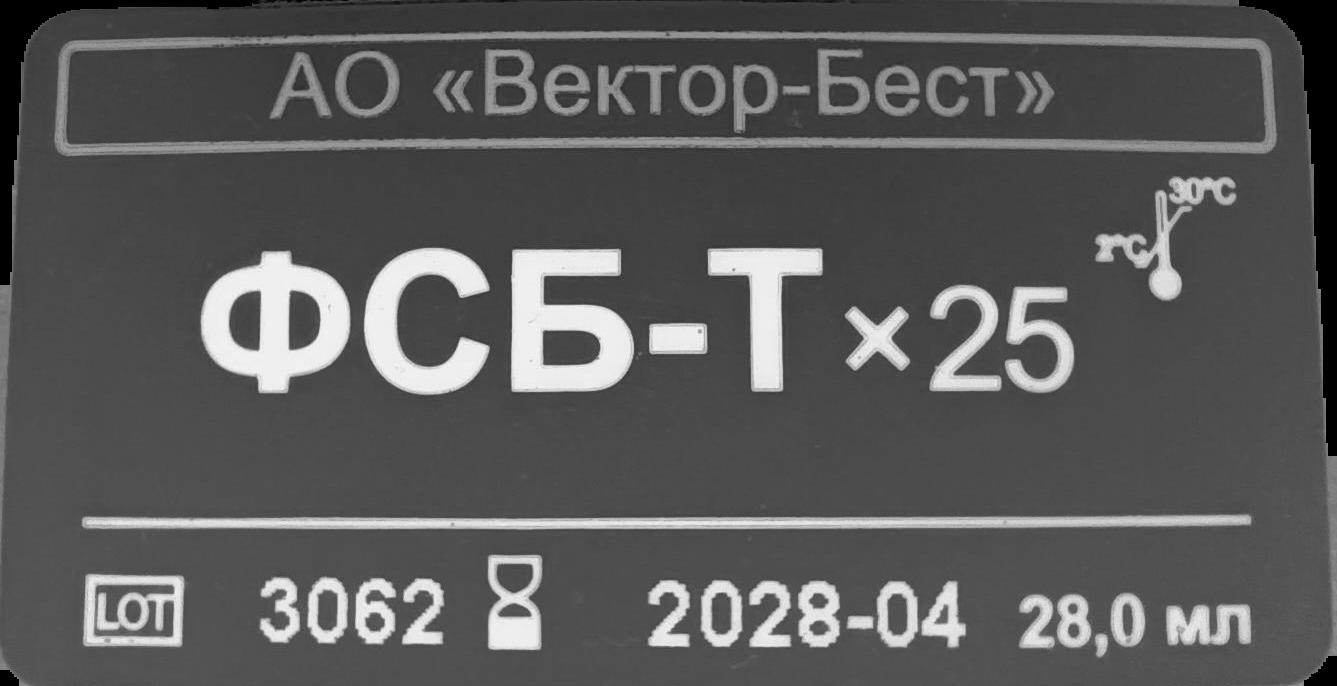something: (1090, 166, 1242, 306), (78, 564, 193, 653), (482, 554, 547, 657)
text: (195, 240, 1076, 403), (267, 47, 1052, 140), (642, 569, 972, 660), (1015, 586, 1260, 659), (255, 571, 446, 649)
